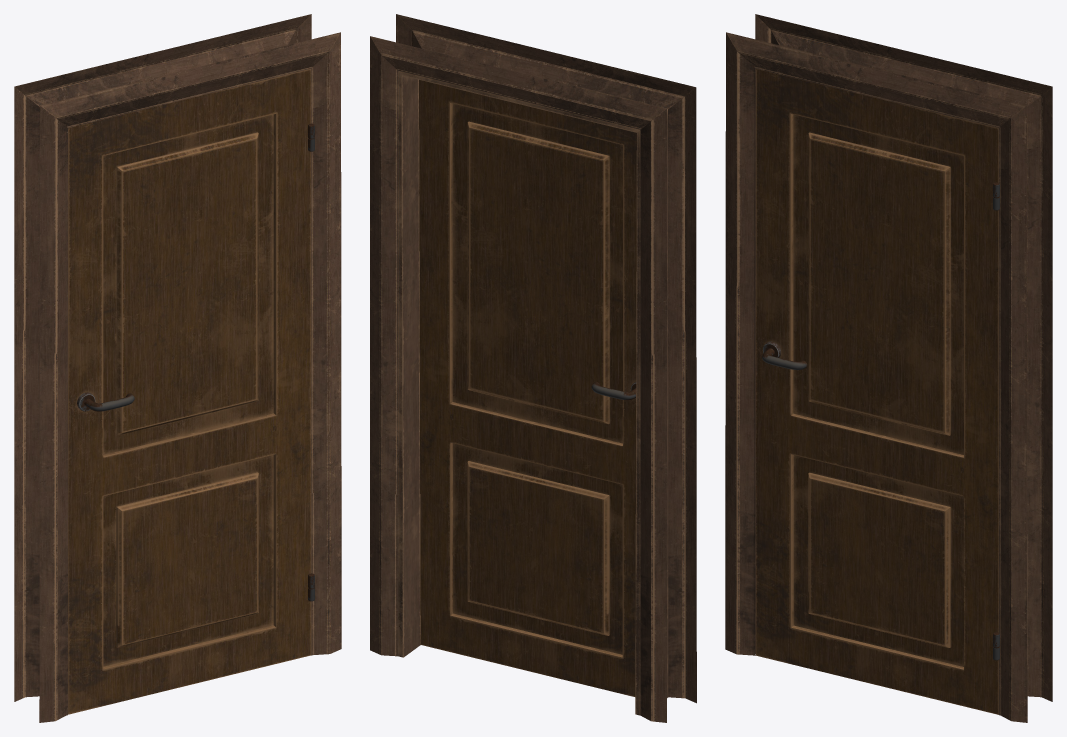
The model's file is wooden-door.obj.
The picture shows the model from 3 angles, left to right: view 1: azimuth 30°, elevation 25°; view 2: azimuth 150°, elevation 25°; view 3: azimuth 330°, elevation 25°; orthographic projection.
Visible parts, largest first — view 1: Cylinder, fram_Cube.002; view 2: Cylinder, fram_Cube.002; view 3: Cylinder, fram_Cube.002.
Part boxes in pixels (left/top/right/bottom): Cylinder: left=68, top=69, right=314, bottom=714; fram_Cube.002: left=14, top=14, right=341, bottom=722; Cylinder: left=419, top=80, right=636, bottom=696; fram_Cube.002: left=370, top=14, right=696, bottom=722; Cylinder: left=756, top=69, right=999, bottom=714; fram_Cube.002: left=725, top=14, right=1052, bottom=722.
Bounding box in the file's own units: 3.19 × 6.22 × 0.7591.
2 materials, 2 textured.
